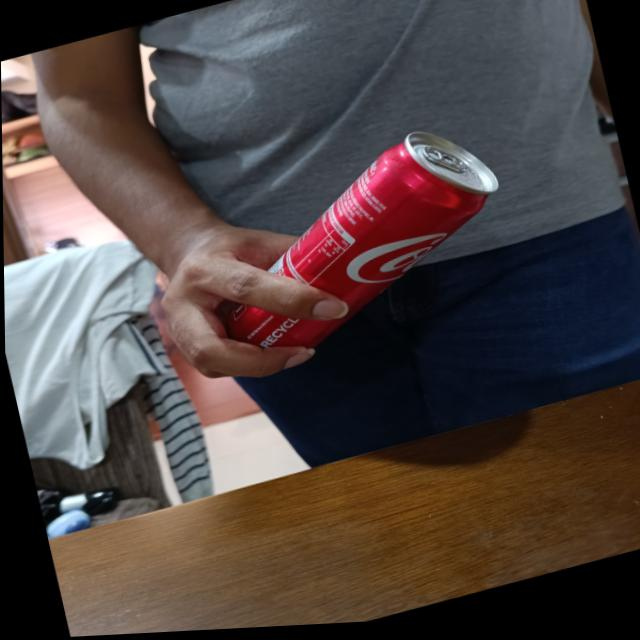coke: (197, 115, 523, 372)
